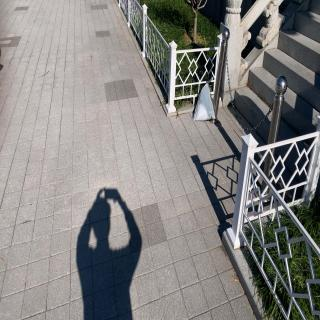Garbage: (192, 76, 218, 125)
